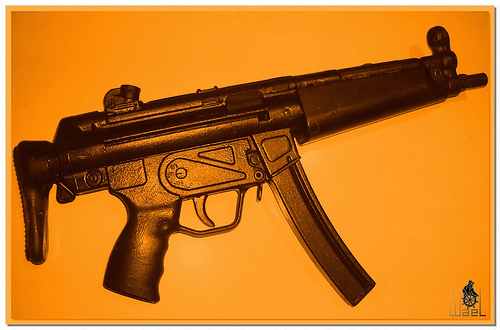rifle: (13, 31, 479, 301)
